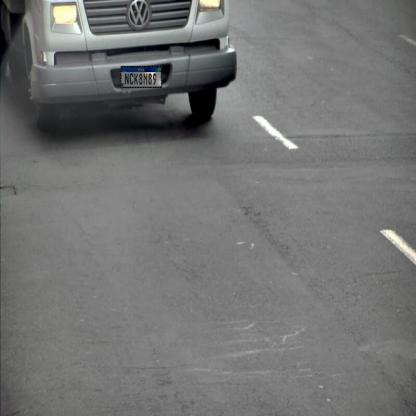PlacaM: (121, 66, 162, 88)
